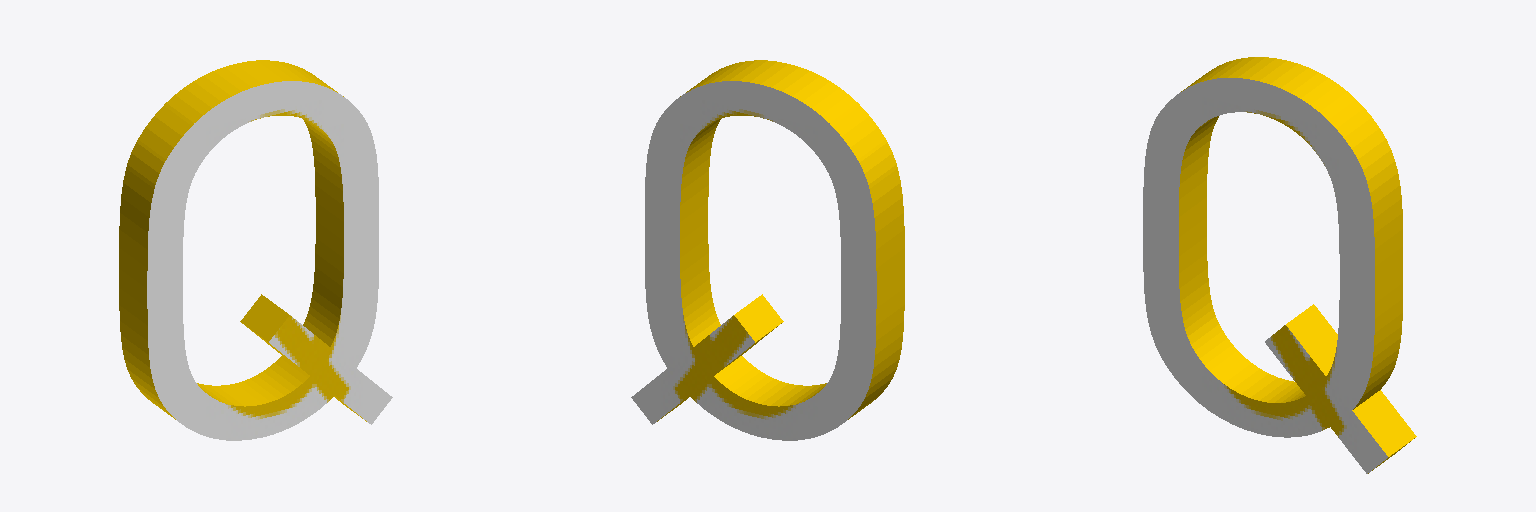
3 renders of one model, left to right at view 1: azimuth 30°, elevation 25°; view 2: azimuth 150°, elevation 25°; view 3: azimuth 330°, elevation 25°, orthographic.
Bounding box in the file's own units: 59.68 × 85.28 × 11.94.
5 materials, 1 textured.